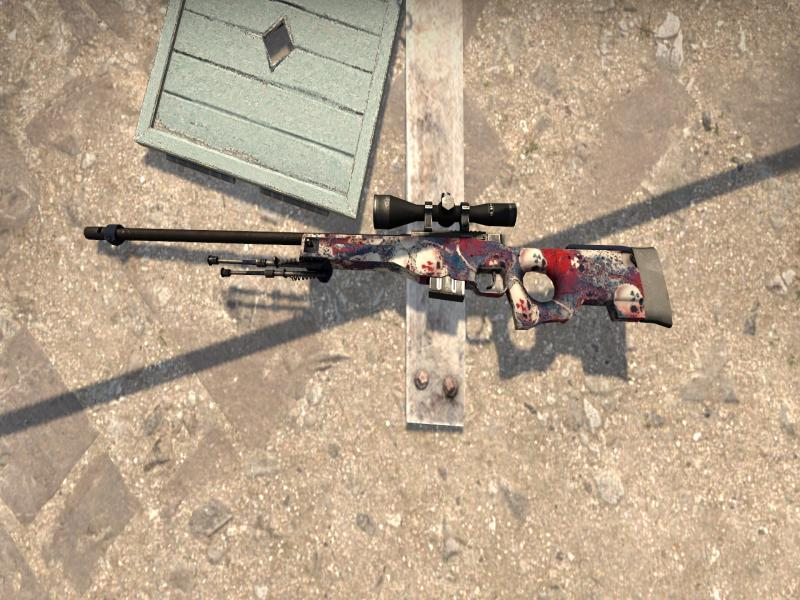AWP: (83, 194, 673, 329)
